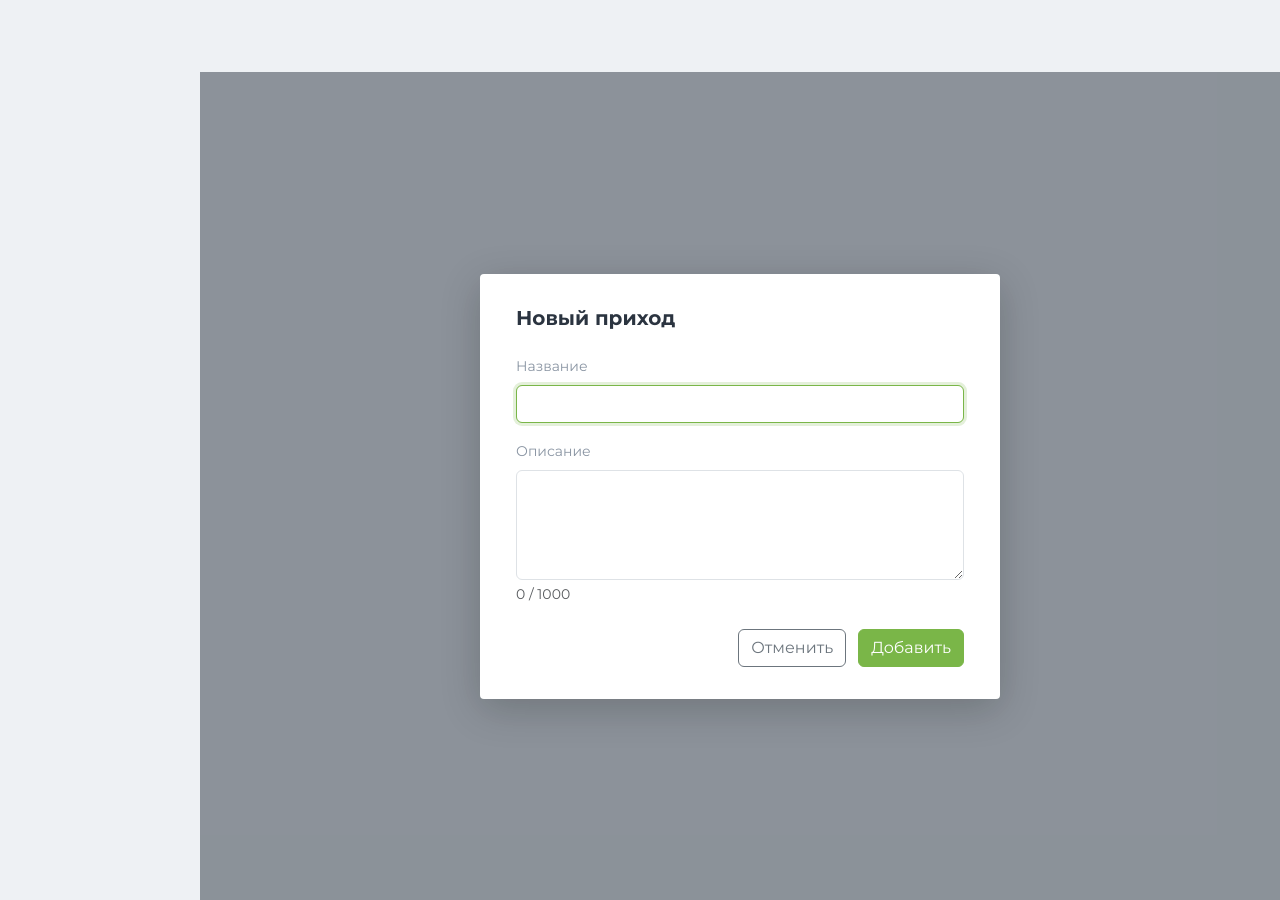
Test: AddOrderModal › hides the error once the title becomes valid
Click the button "Добавить".
click(911, 648)  # box [858,628,964,666]
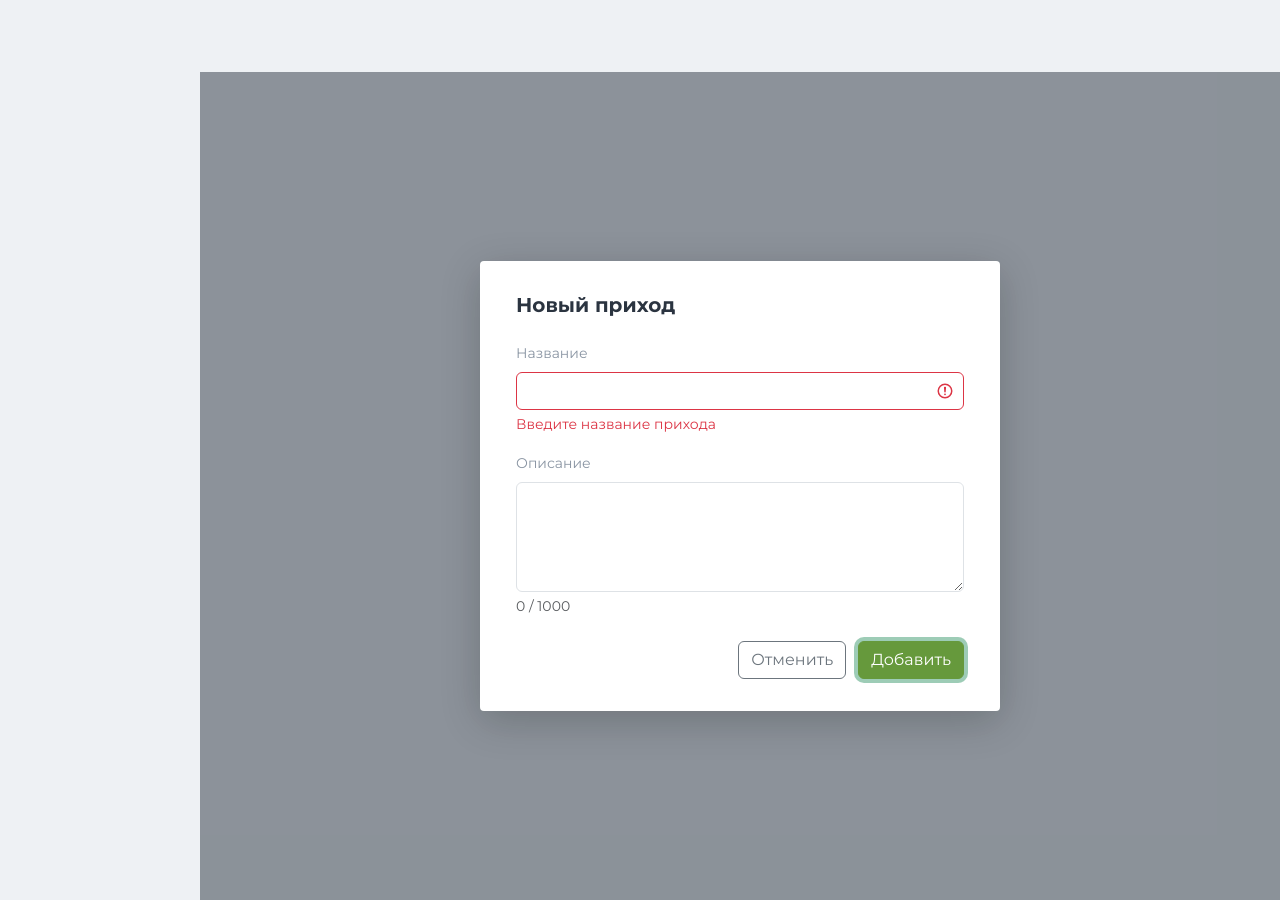
expect the text "Введите название прихода" is shown: met, box [516,415,716,433]
Type "Новый приход" into the field labelled "Название".
click(740, 391); type("Новый приход")  # box [516,372,964,410]
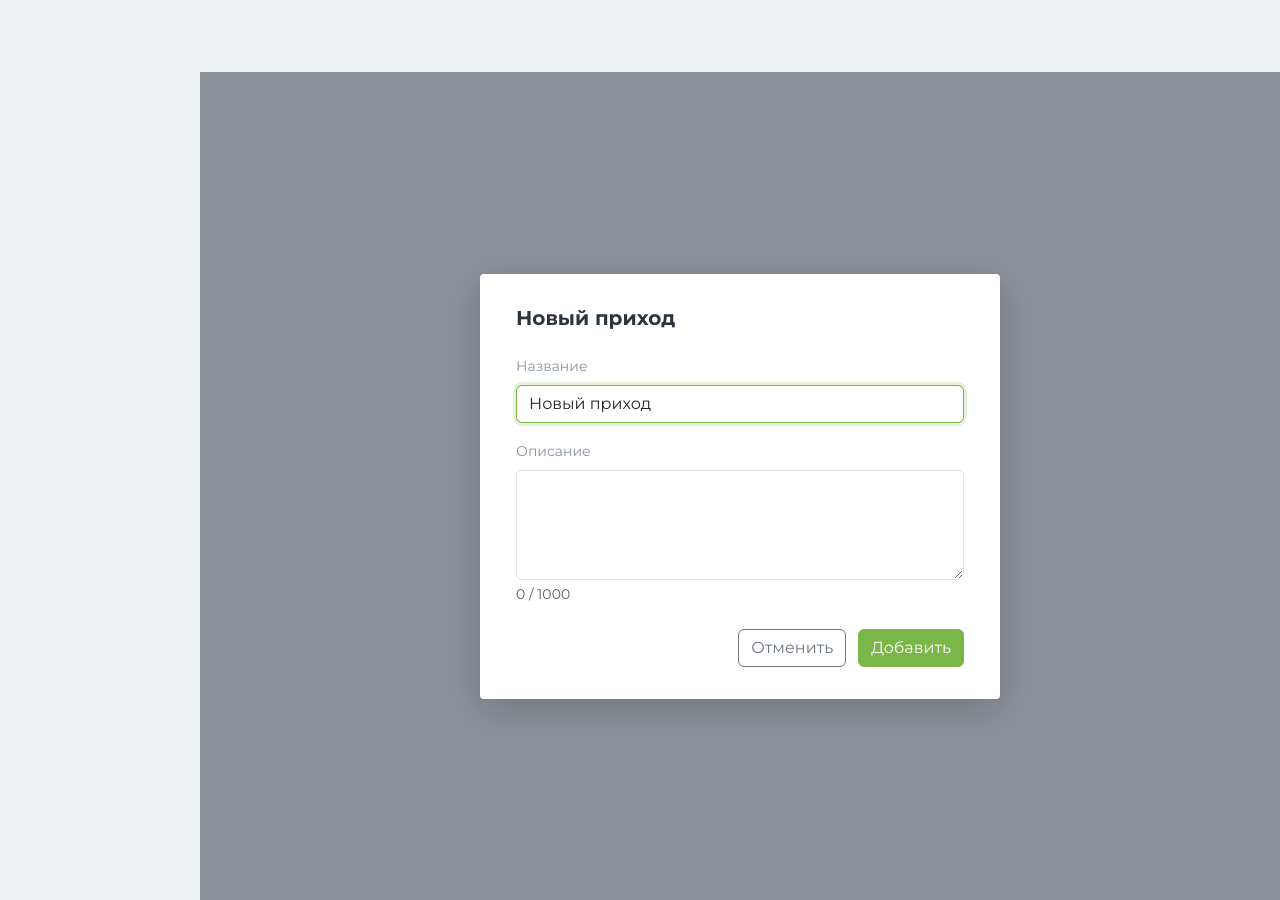
expect the text "Введите название прихода" is gone: met
